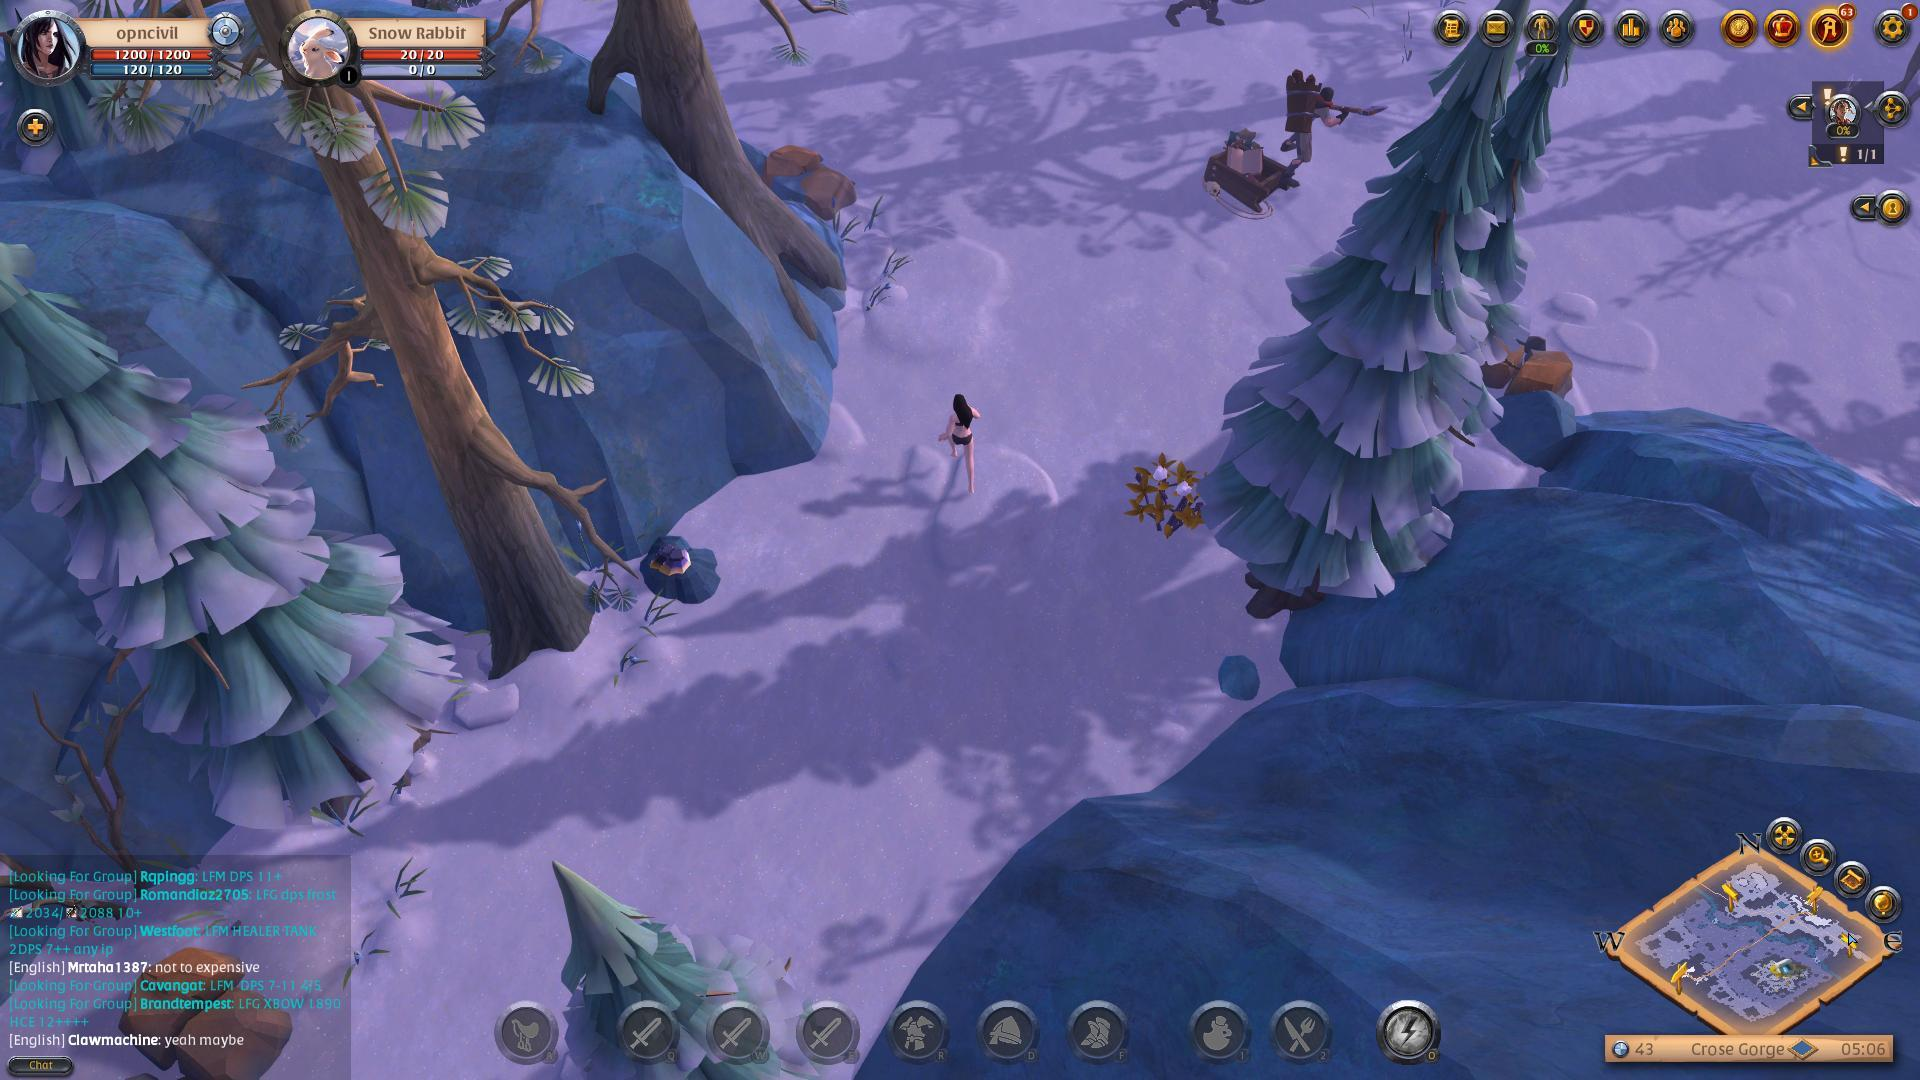copper_ore: (636, 539, 748, 609)
cotton: (1121, 455, 1230, 531)
limestone: (1472, 339, 1600, 407)
tin_ore: (1270, 65, 1360, 183)
